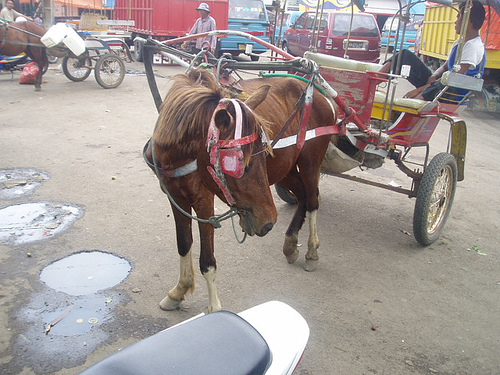horse: (143, 64, 345, 314)
